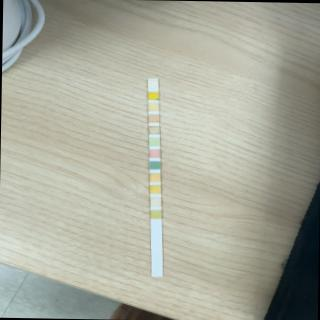mark: (149, 160, 161, 170), (149, 185, 161, 194), (148, 149, 160, 158), (150, 210, 162, 218), (148, 126, 160, 134), (149, 173, 160, 181), (148, 137, 159, 145), (147, 92, 158, 100), (148, 114, 158, 122), (148, 102, 158, 110), (148, 80, 158, 88), (150, 198, 161, 205)
